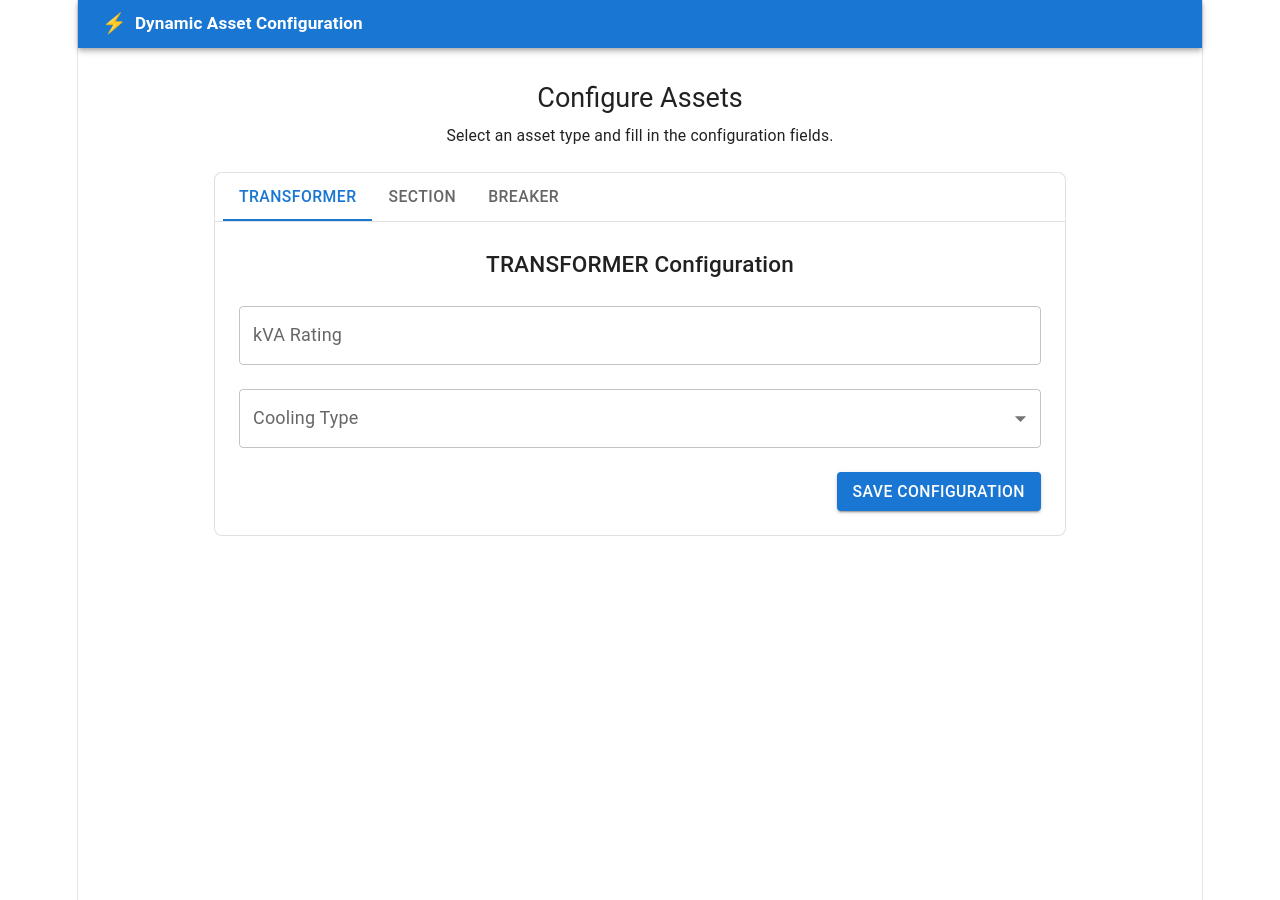
Scenario: App › clears the payload display when switching tabs
This screenshot has width=1280, height=900.
Type "100" into the field labelled "kVA Rating". click: (640, 335)
box: left=239, top=306, right=1041, bottom=365
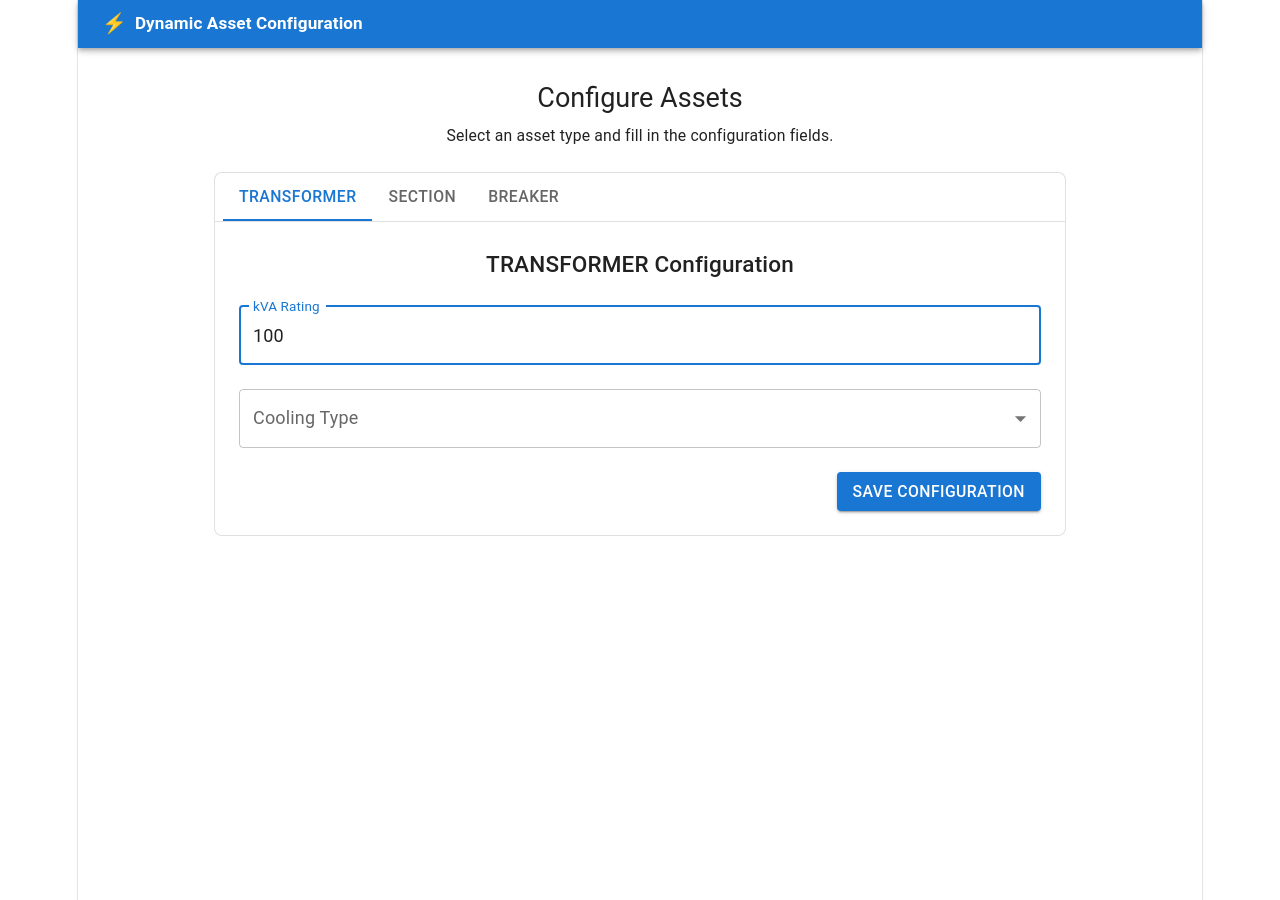
Click the dropdown named "cooling type". click: (640, 418)
box: left=239, top=389, right=1041, bottom=448
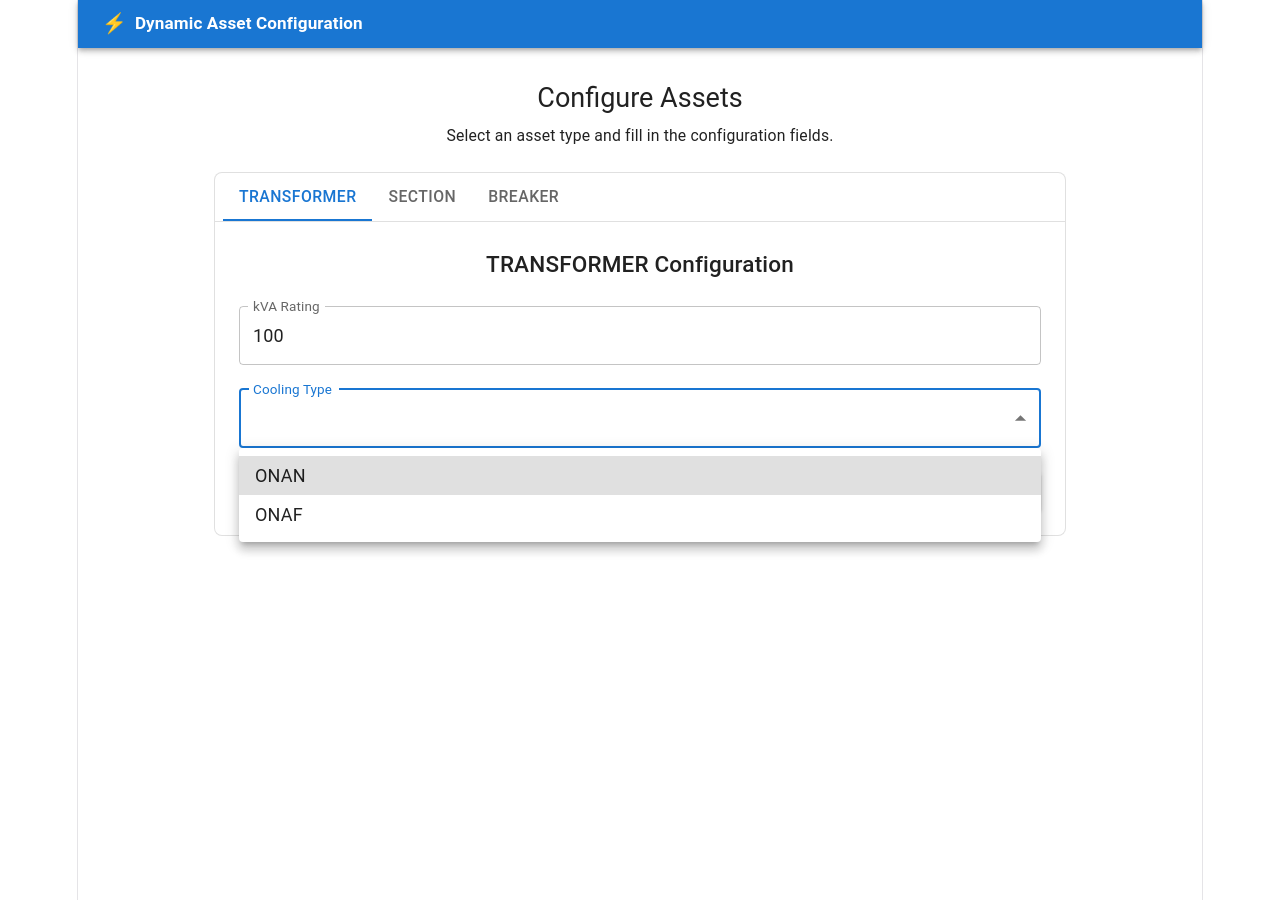
Click the option "ONAN". click: (280, 476)
box: left=239, top=456, right=1041, bottom=495
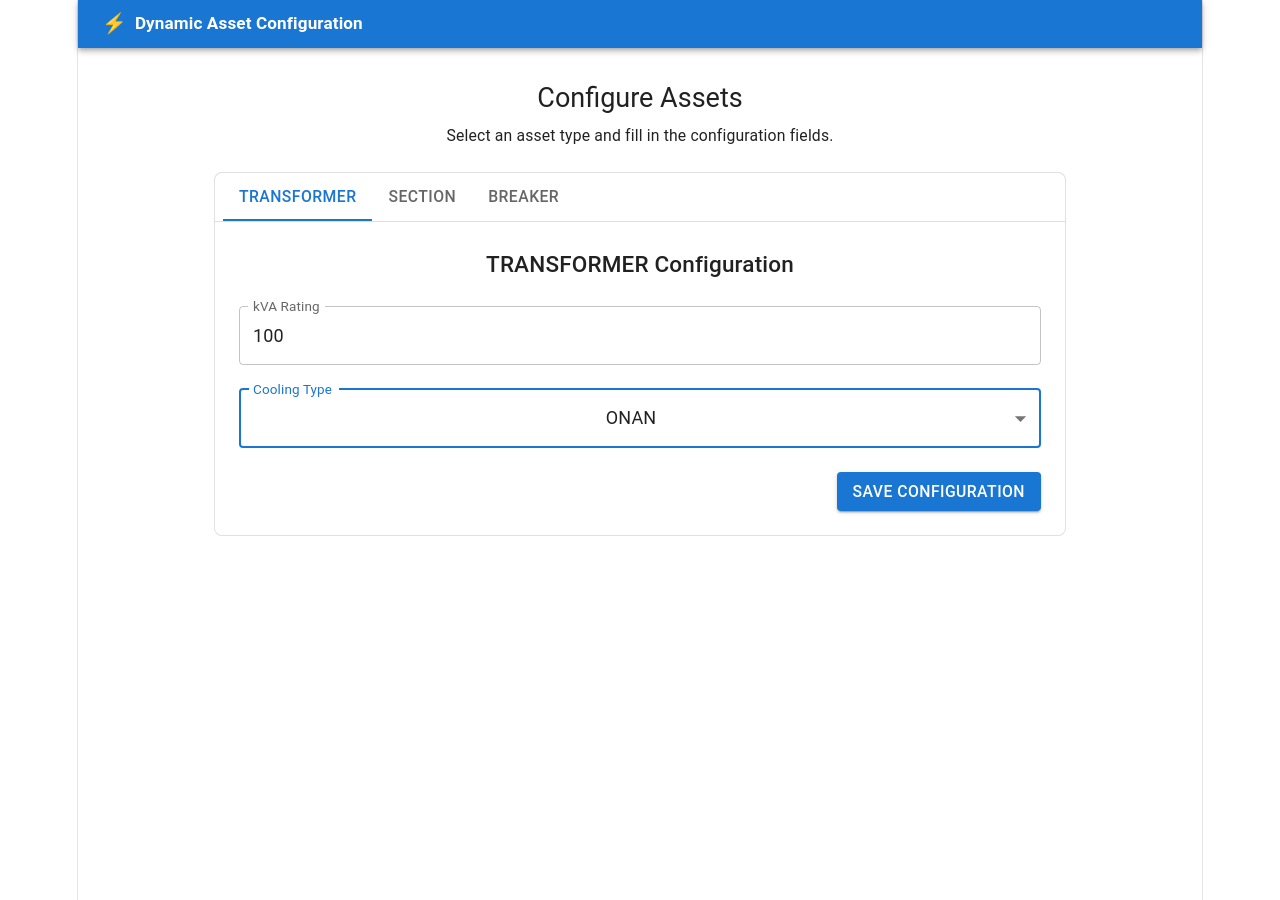
Click the button "Save Configuration". click: (939, 491)
box: left=836, top=472, right=1041, bottom=511
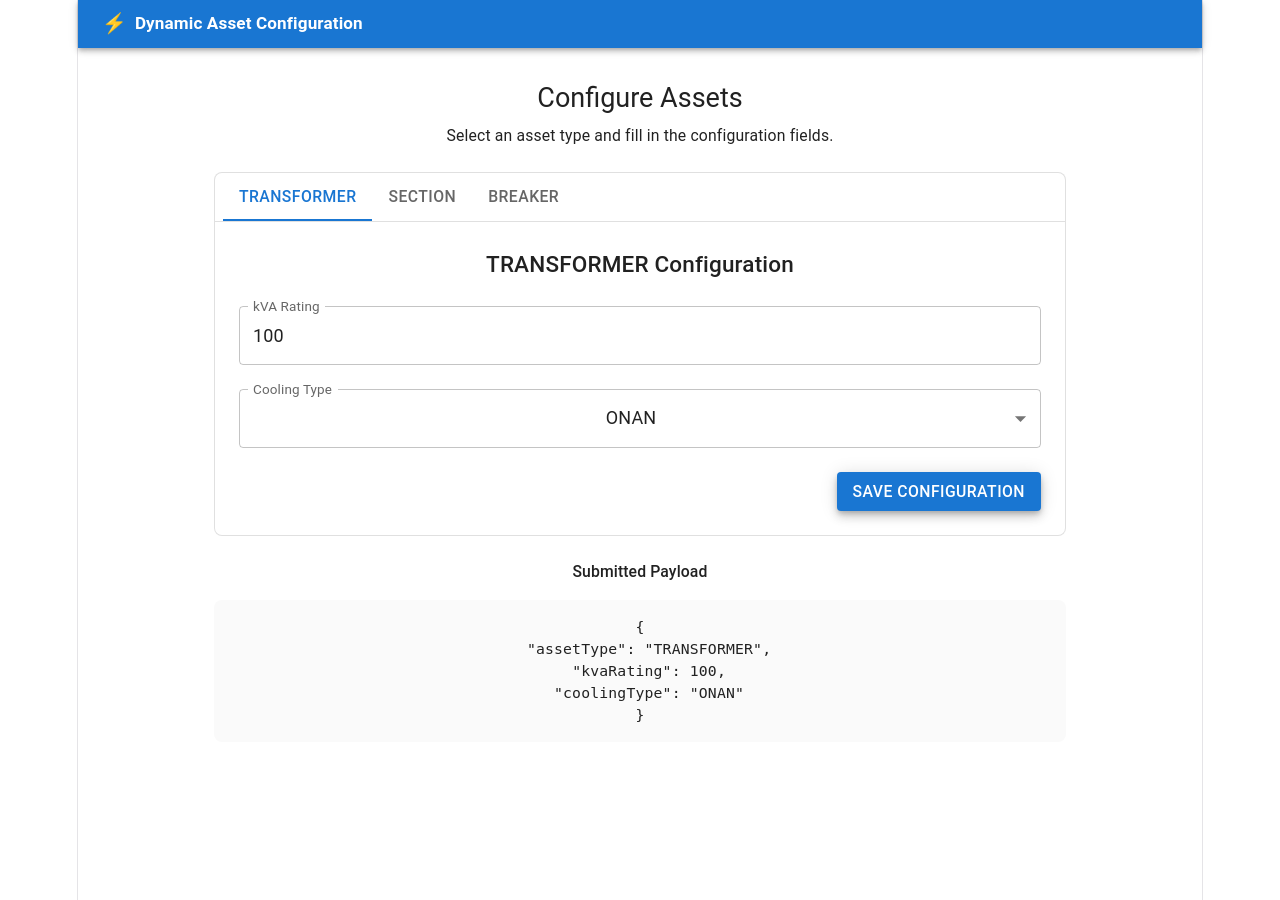
Now the heading "Submitted Payload" is shown, box left=572, top=562, right=708, bottom=581
Click the tab "SECTION". click: (422, 197)
box: left=372, top=173, right=472, bottom=221
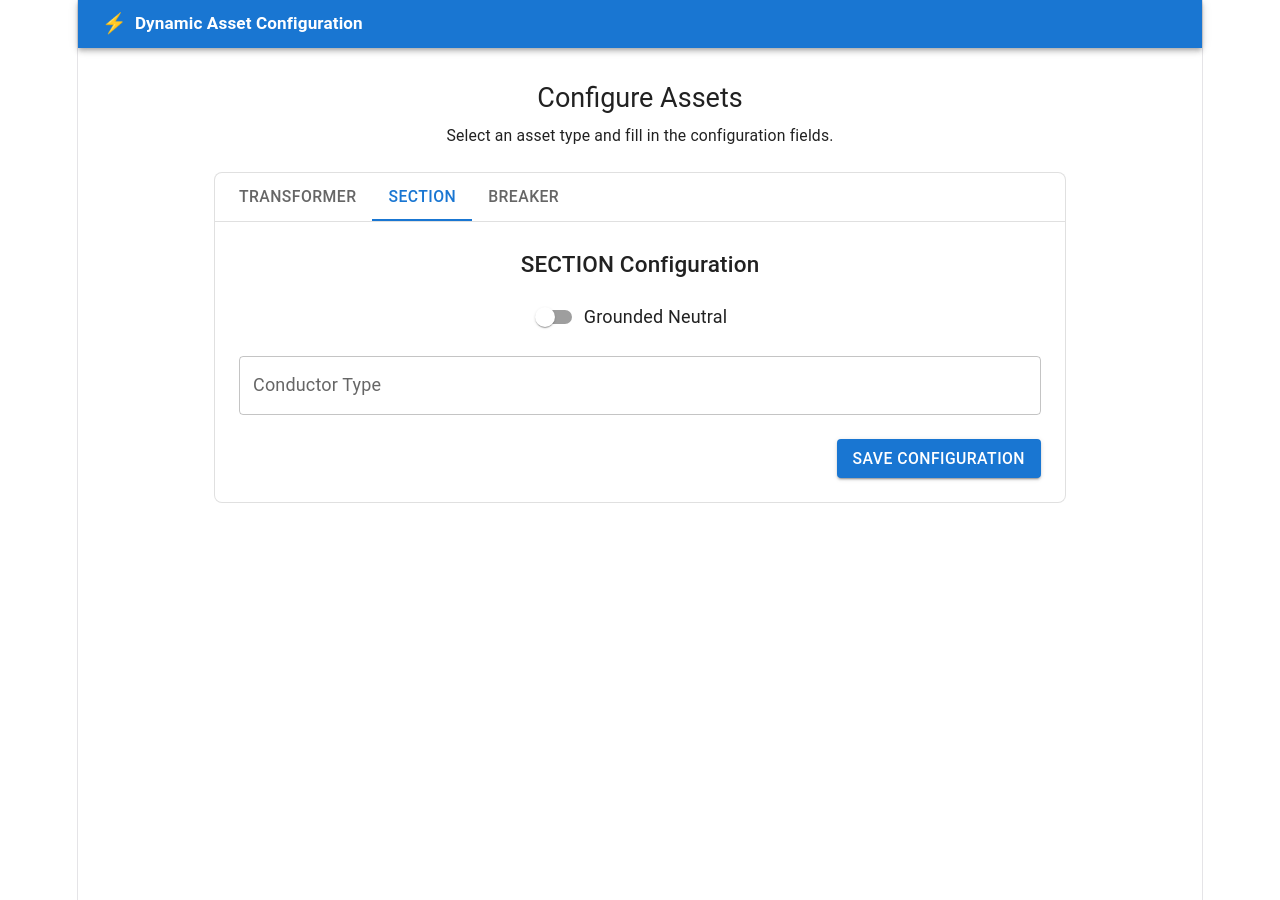
Now the heading "Submitted Payload" is gone
